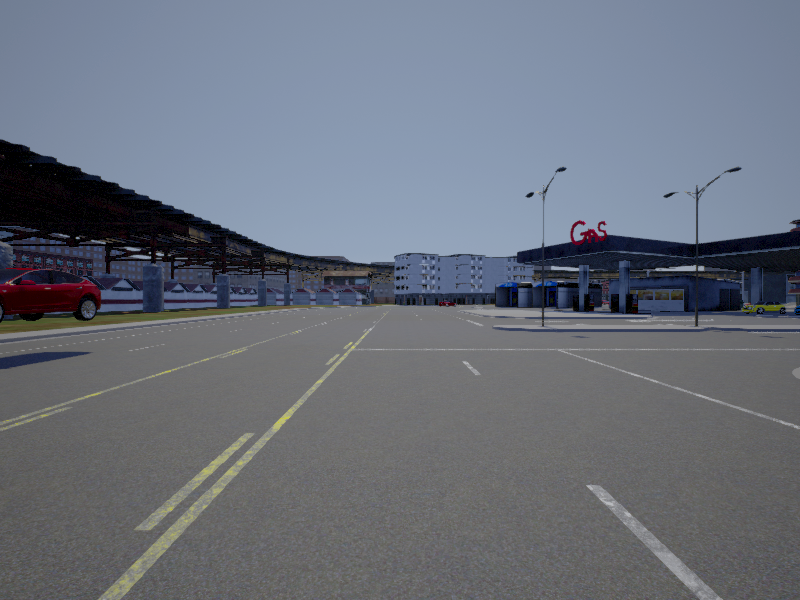Attacker: (1, 269, 100, 319)
